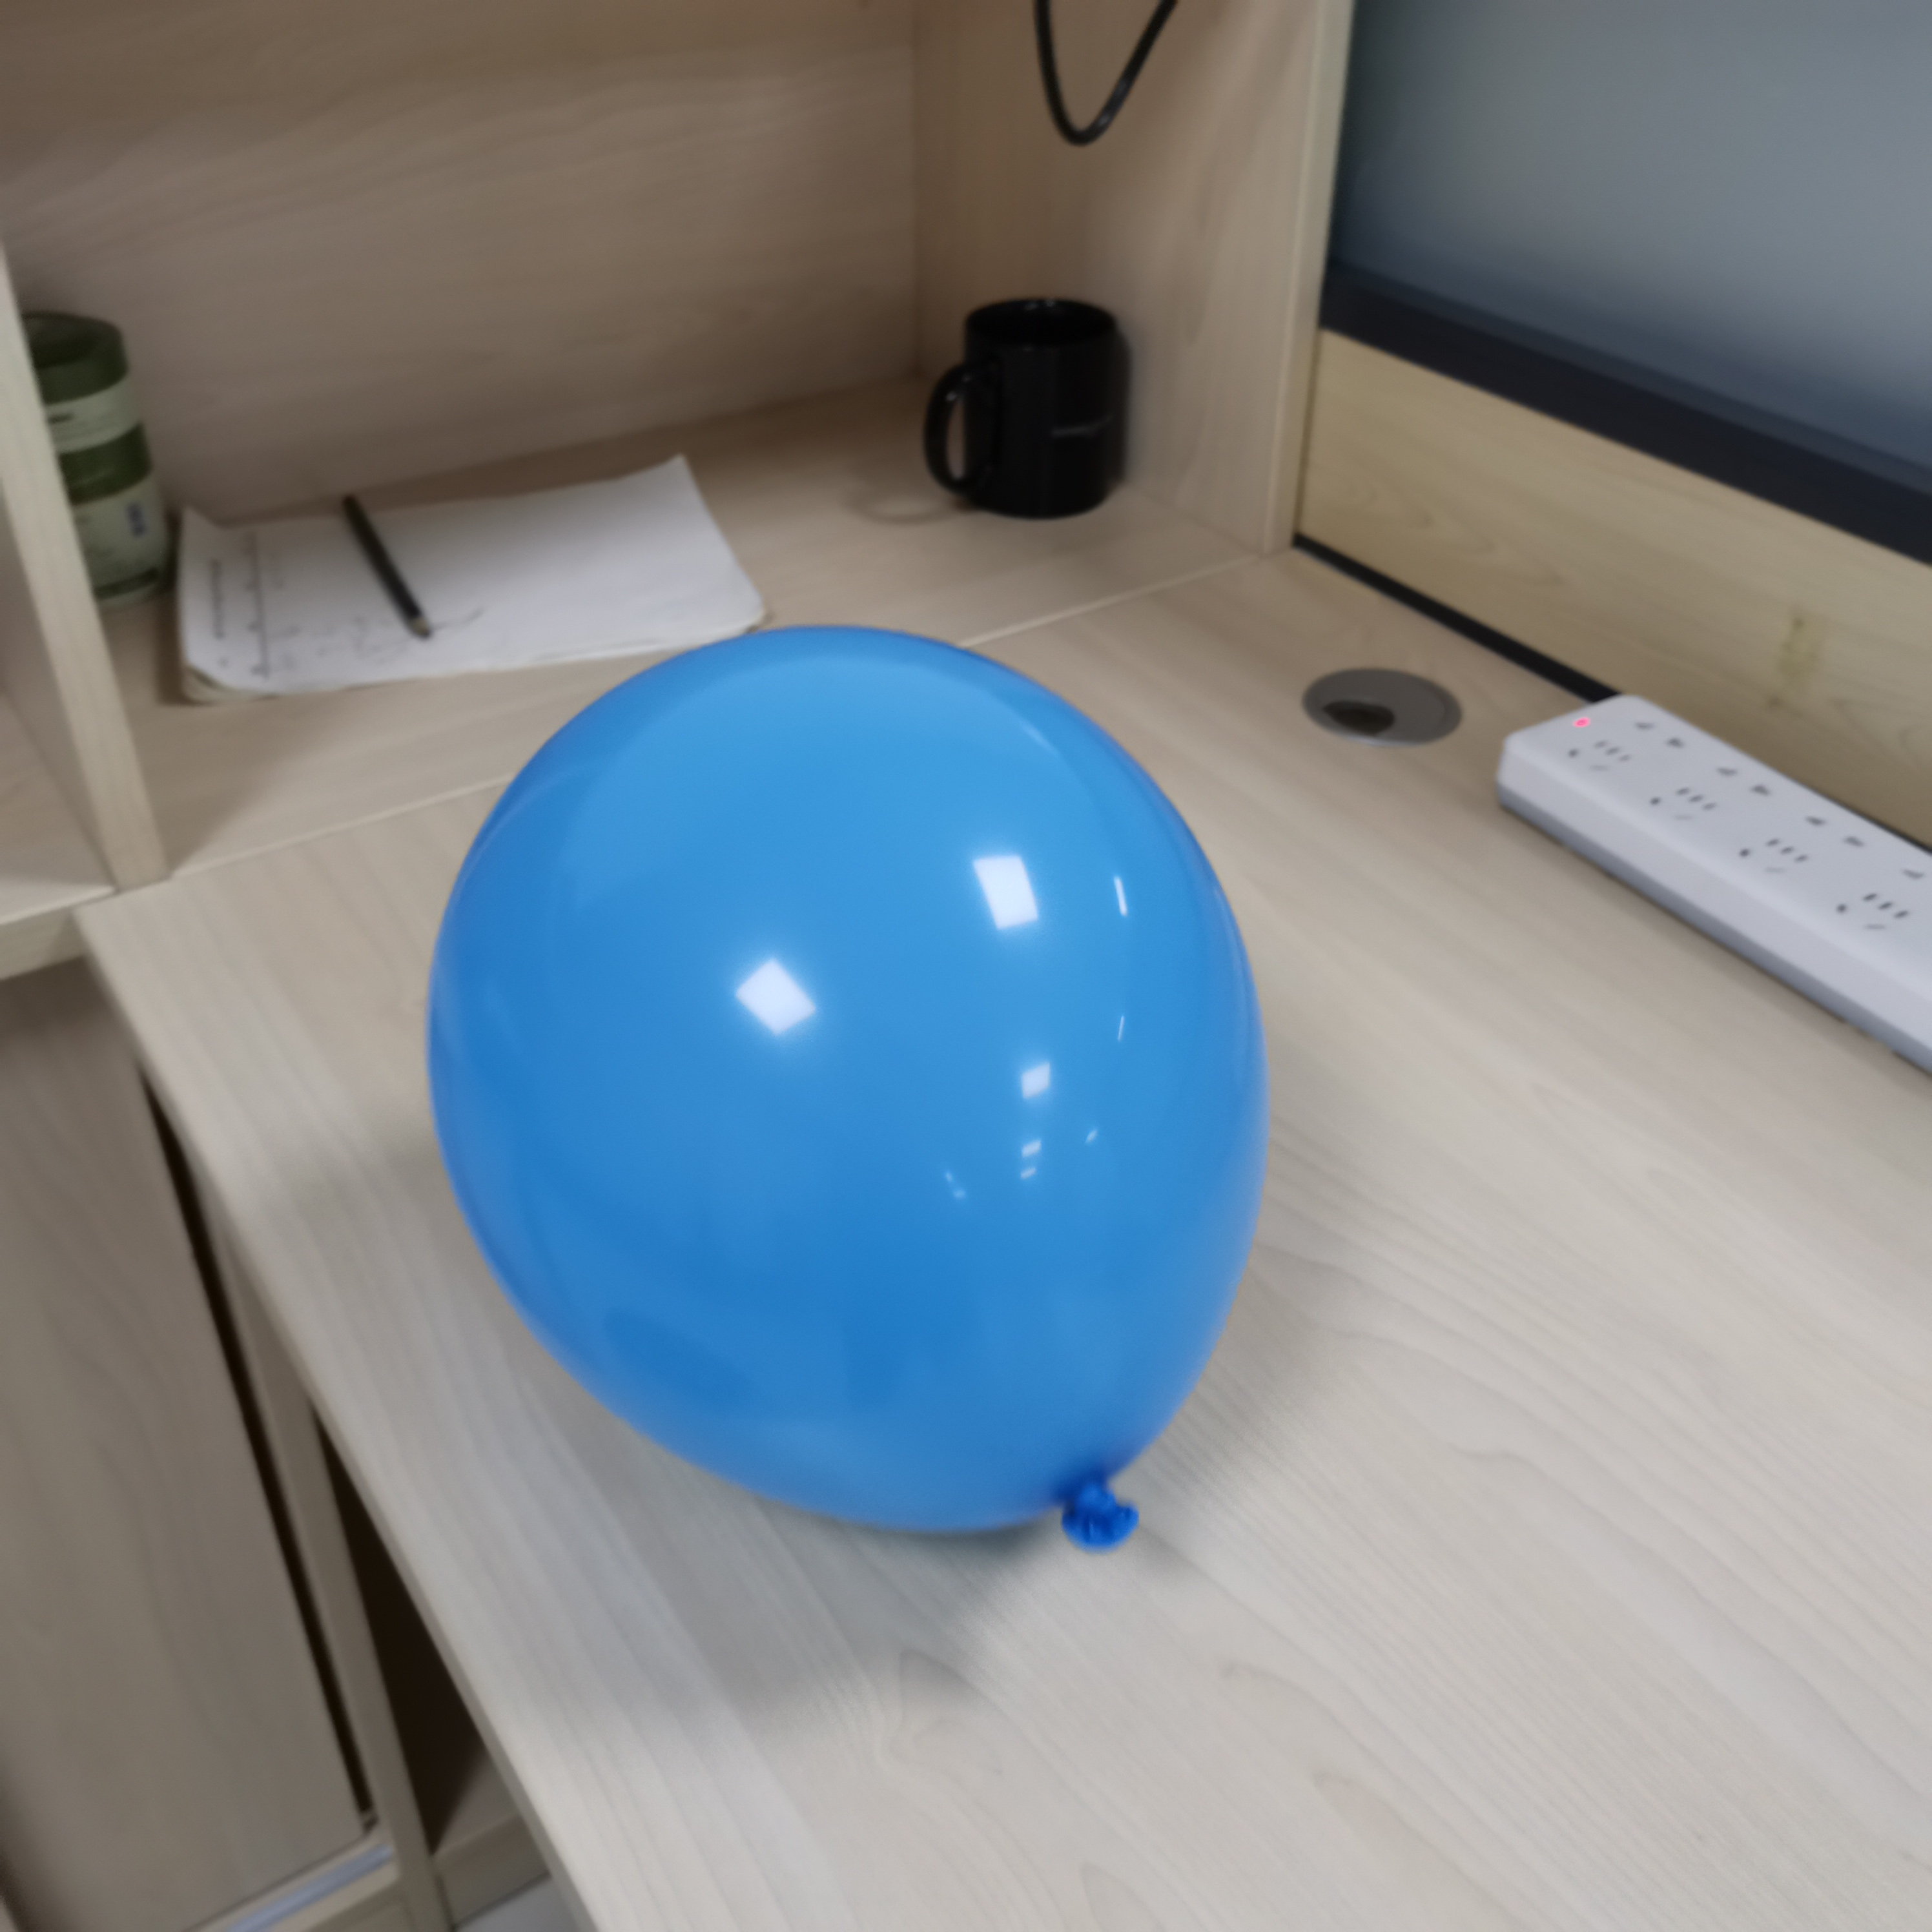balloon: (423, 623, 1270, 1550)
